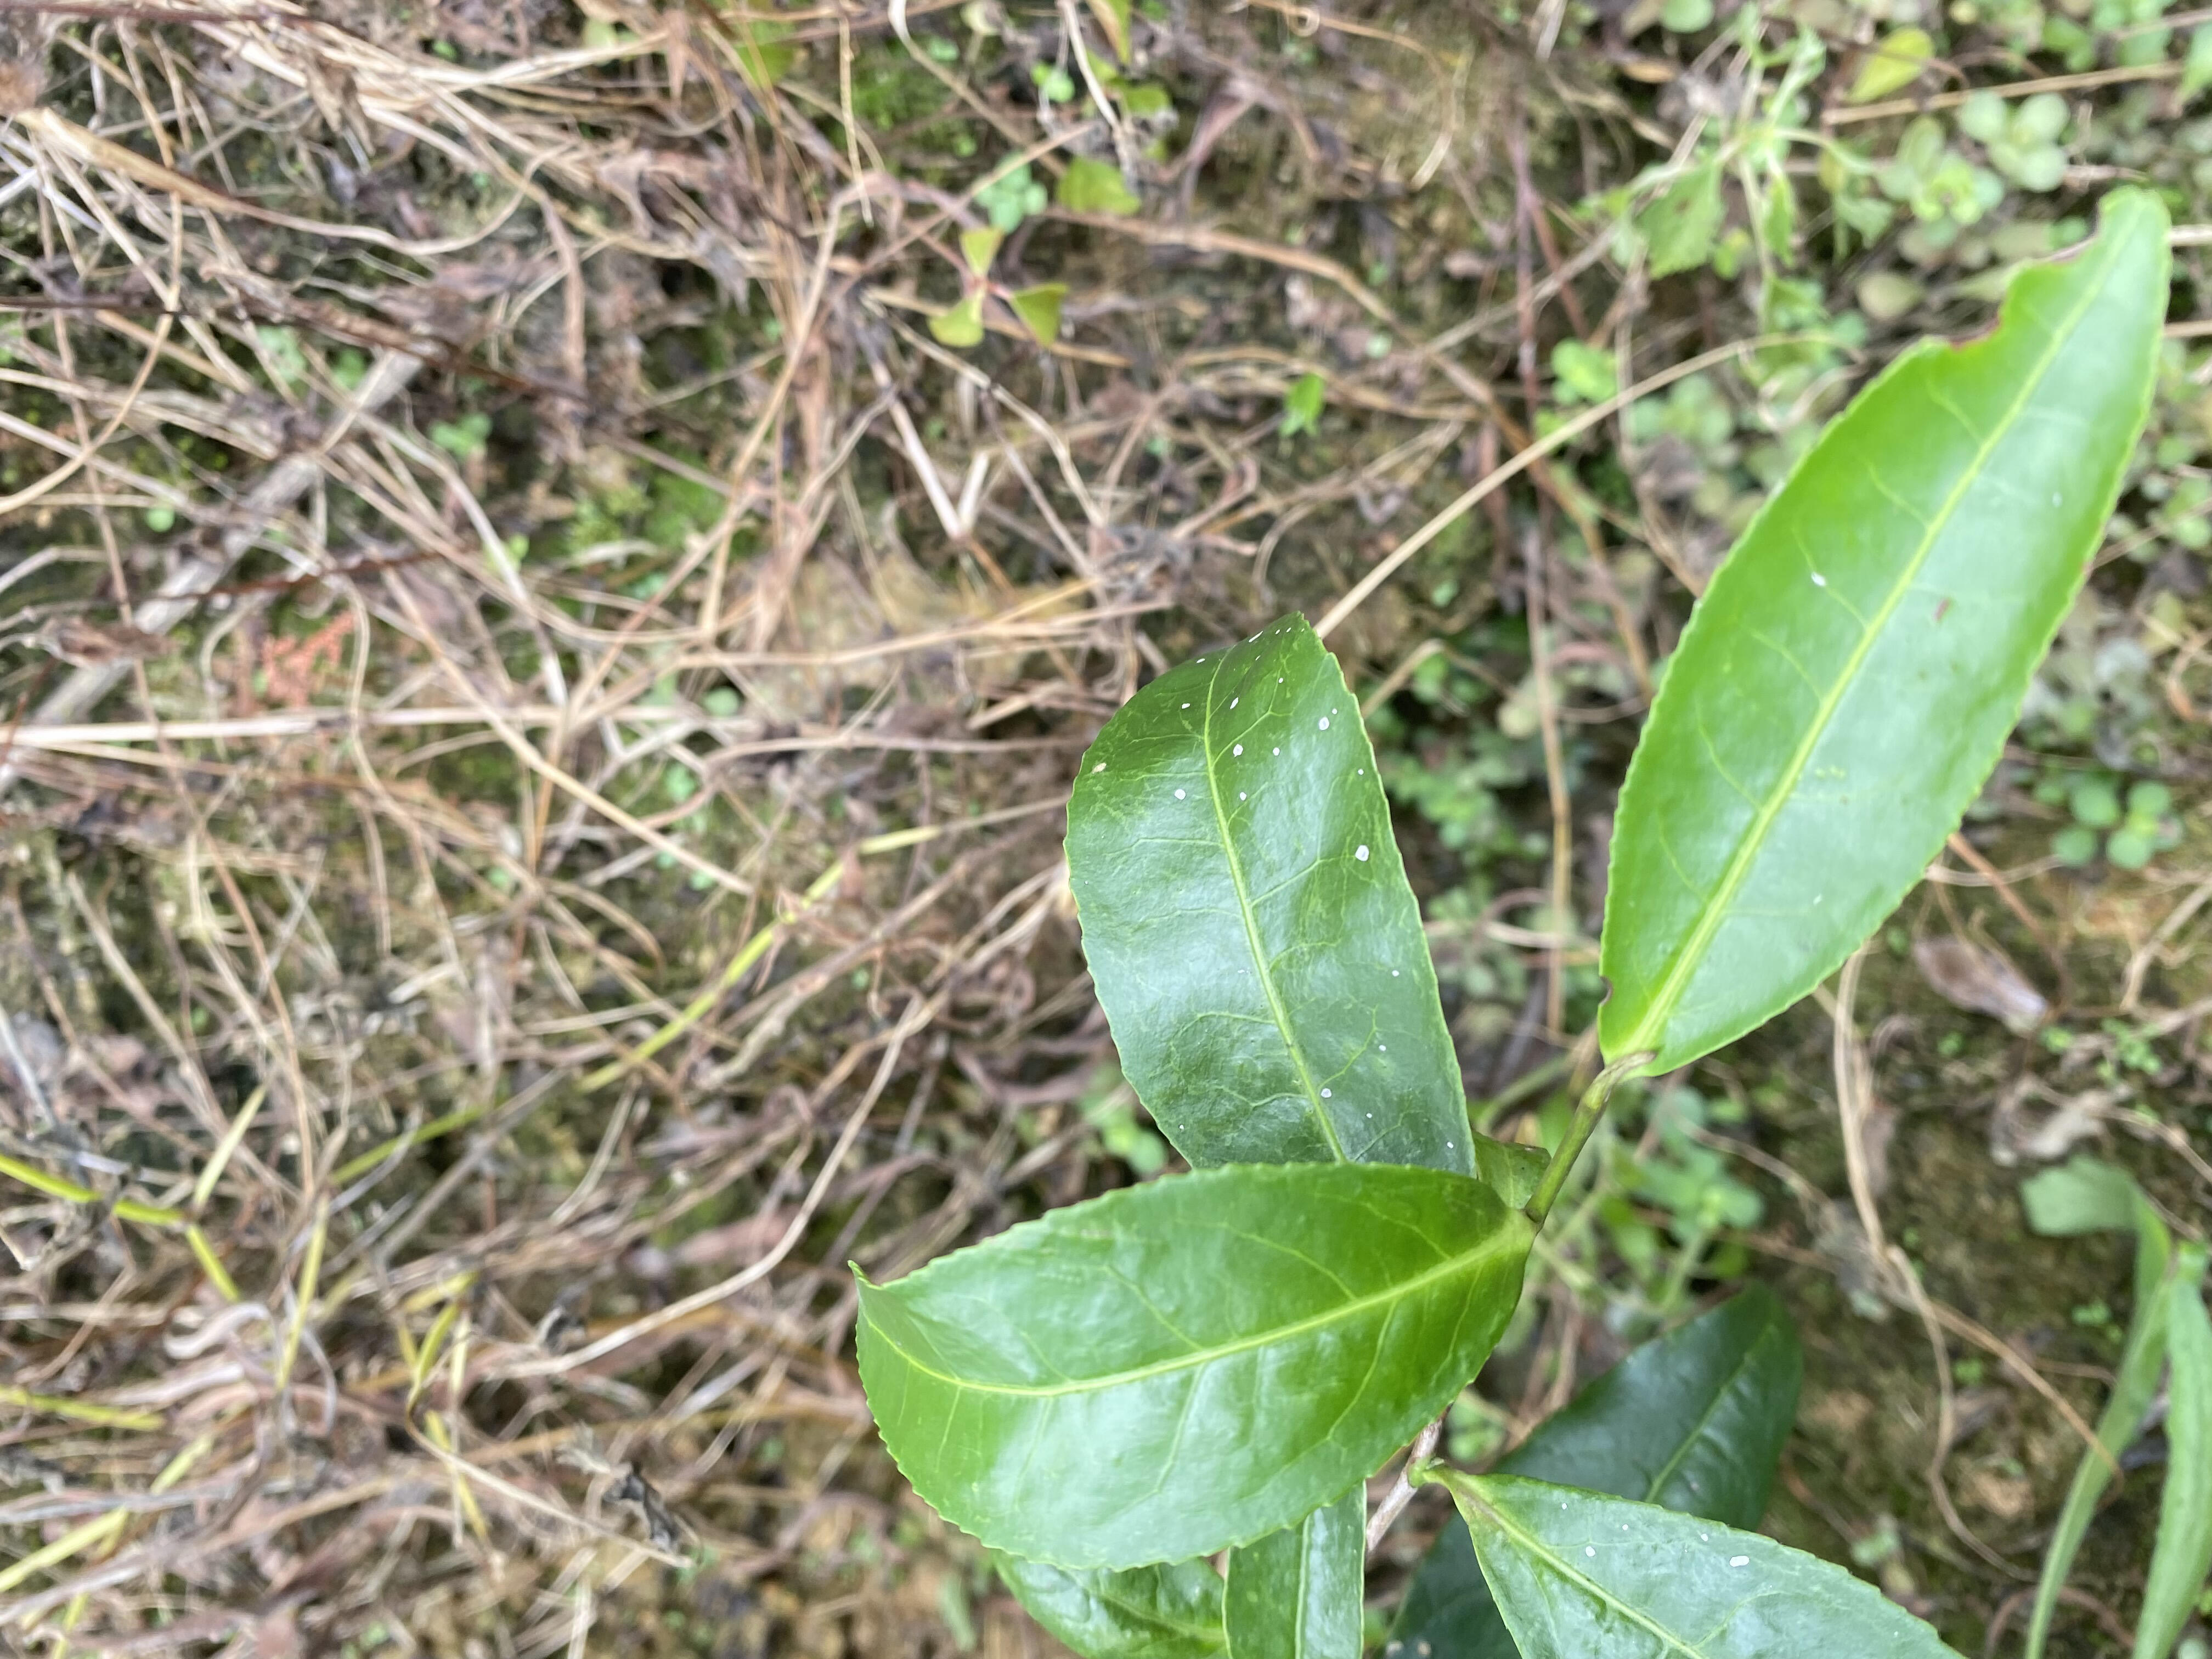chihuo_high: (1594, 186, 2172, 1080)
healthy: (850, 1164, 1529, 1574)
tanju_low: (1061, 612, 1479, 1175)
